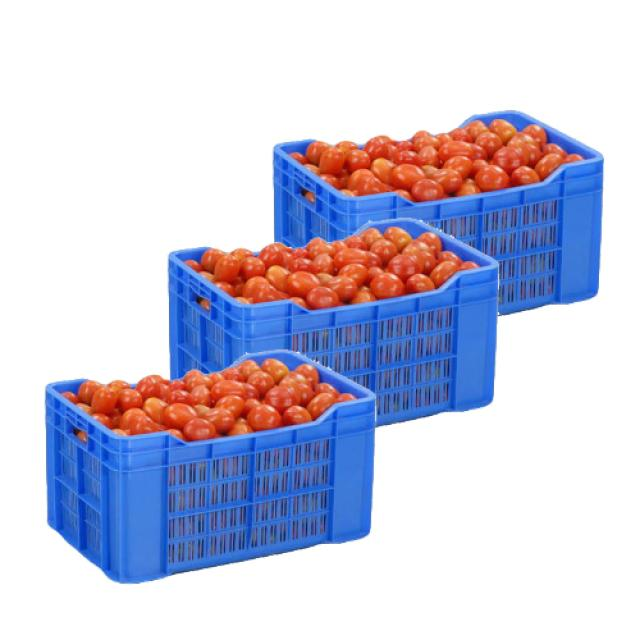basket: (21, 322, 403, 599), (170, 221, 499, 426), (275, 111, 605, 314)
